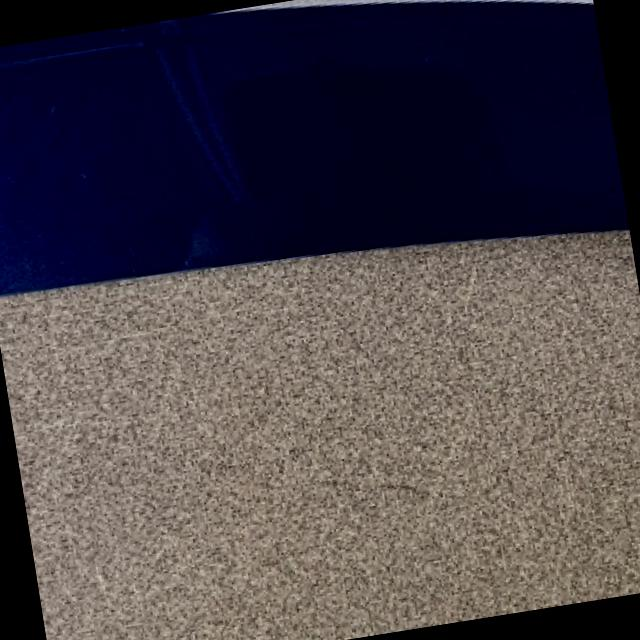healthy: (0, 0, 640, 640), (0, 1, 629, 291)
